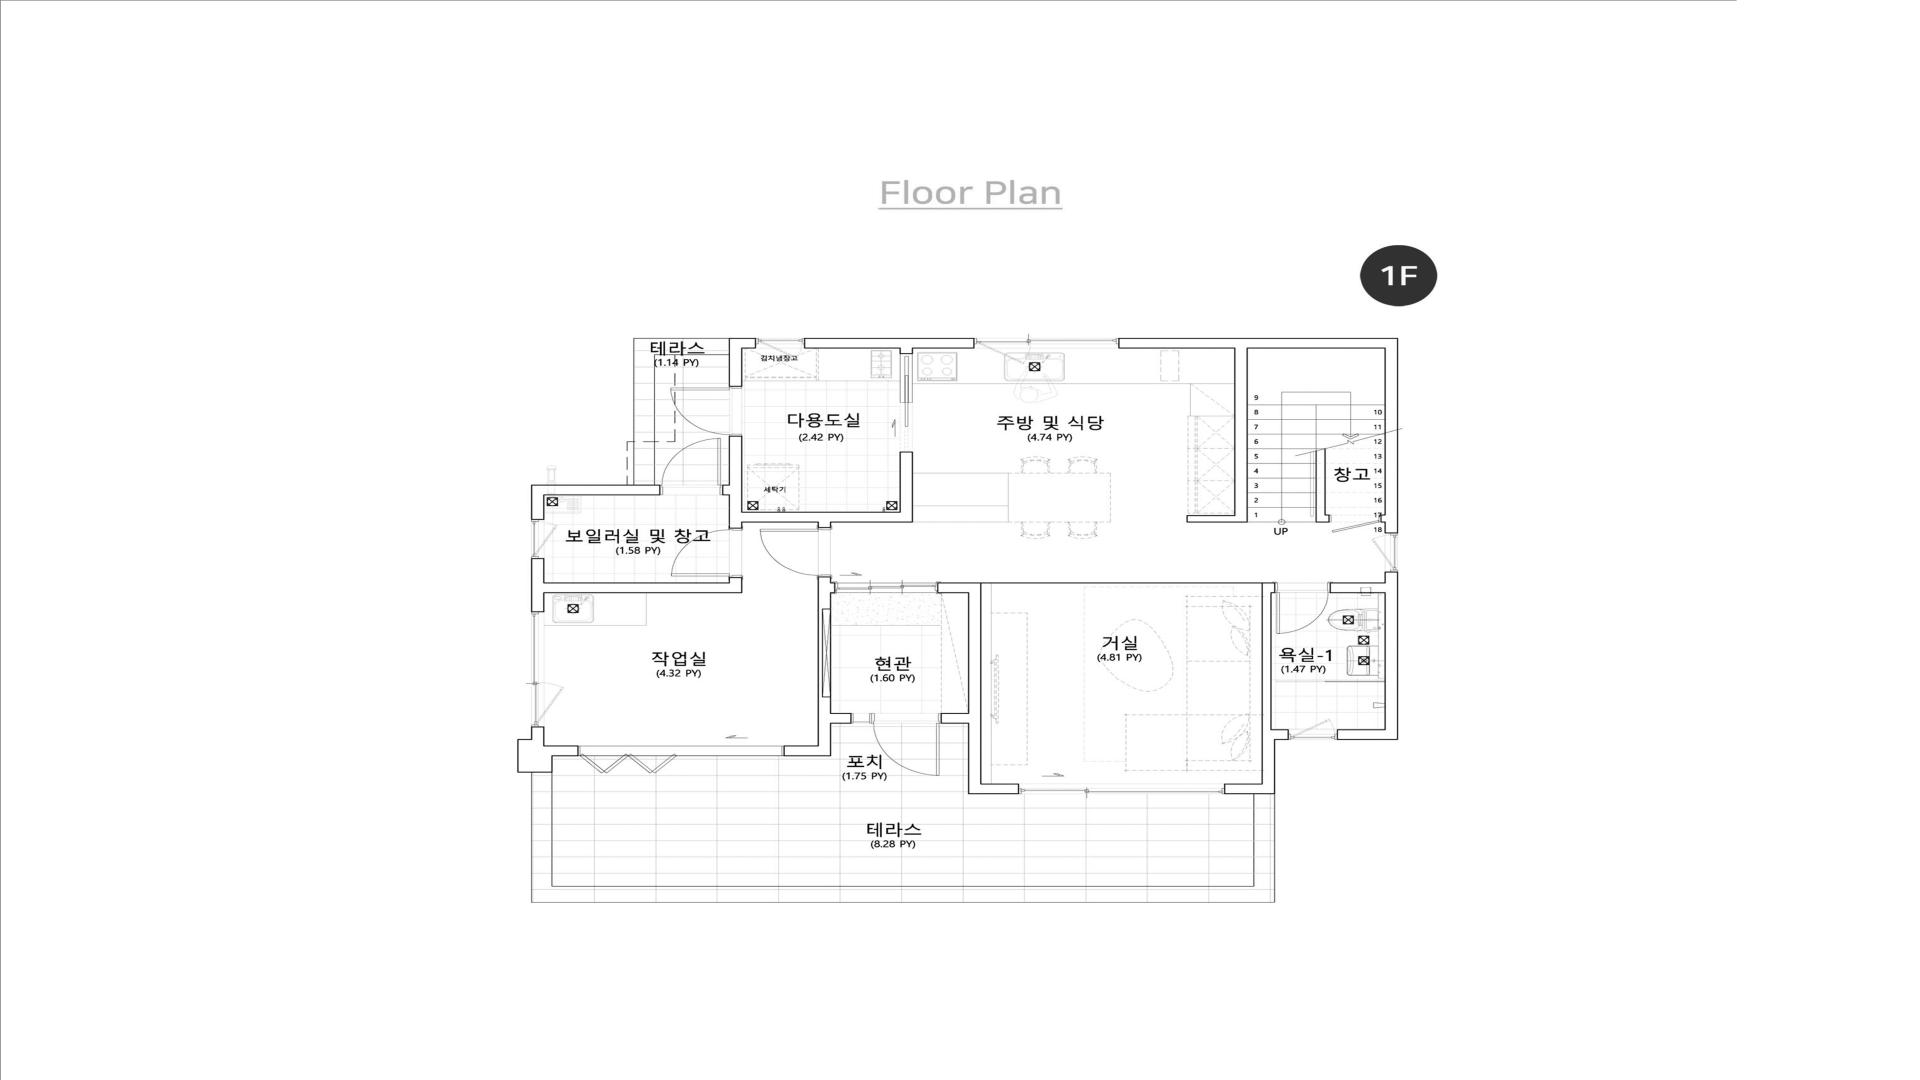door: (852, 713, 940, 775), (670, 387, 742, 436), (760, 528, 833, 576), (661, 438, 722, 495), (671, 529, 743, 577), (1275, 581, 1330, 634), (835, 581, 937, 594), (900, 354, 913, 451), (1330, 515, 1381, 533)
wall: (1118, 338, 1398, 349), (1385, 349, 1398, 533), (1384, 572, 1398, 740), (1234, 349, 1248, 515), (545, 582, 729, 593), (804, 338, 975, 349), (743, 512, 913, 523), (818, 577, 831, 713), (517, 726, 552, 773), (968, 593, 981, 713), (1261, 593, 1272, 729), (545, 485, 661, 495), (900, 452, 913, 512), (968, 724, 981, 783), (531, 558, 544, 612), (1316, 448, 1326, 515), (729, 436, 742, 484), (1330, 582, 1384, 593), (1262, 740, 1275, 784), (783, 745, 831, 756), (1337, 729, 1384, 740), (968, 784, 1019, 794), (1224, 784, 1275, 794), (937, 582, 982, 593), (729, 349, 742, 387), (531, 485, 545, 520), (940, 713, 982, 724), (1186, 515, 1248, 522), (729, 496, 742, 529), (818, 713, 851, 724), (1261, 729, 1289, 740), (818, 724, 831, 745), (552, 746, 579, 756), (729, 338, 756, 348), (722, 485, 742, 496), (729, 577, 742, 593), (1261, 583, 1275, 593), (1315, 515, 1329, 523), (818, 523, 831, 528), (900, 349, 913, 354), (831, 582, 835, 593), (1381, 515, 1384, 522)
window: (579, 746, 783, 774), (531, 612, 566, 726), (975, 338, 1118, 364), (1019, 784, 1224, 794), (1289, 719, 1337, 740), (1371, 534, 1398, 571), (531, 520, 557, 558), (756, 338, 803, 358)
